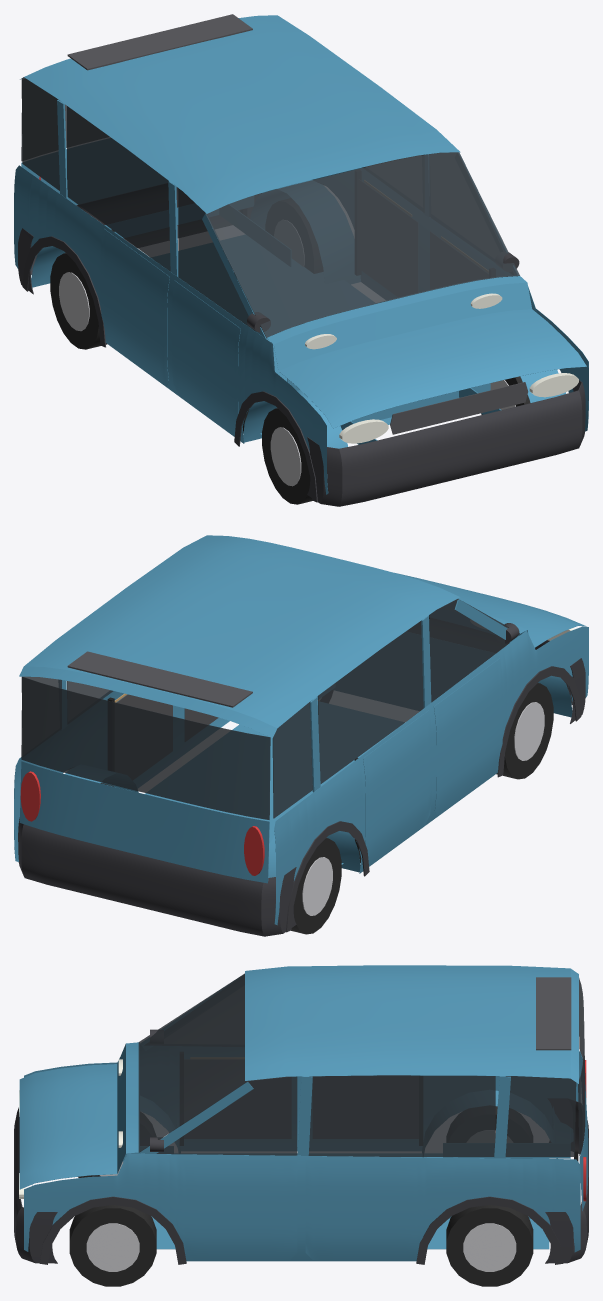
Rendered from aileron.glb.
3 renders of one model, top to bottom at view 1: azimuth 30°, elevation 25°; view 2: azimuth 150°, elevation 25°; view 3: azimuth 270°, elevation 25°, orthographic. The views are drawn at different scales.
Visible parts, largest first — view 1: CAR-PANEL-ROOF 1, Pare-brise 1, CAR-HOOD-SHELL 1, CAR-BUMPER-SKIN-FRONT 1, CAR-PANEL-SIDE 2, Vitre arrière 2, CAR-COWL 1, CAR-DOOR-SHELL-REAR 2, CAR-DOOR-SHELL-FRONT 2, Vitre avant 2, Aileron, CAR-GLASS-QUARTER 2 (+19 smaller); view 2: CAR-PANEL-ROOF 1, CAR-GLASS-TAILGATE 1, CAR-BUMPER-SKIN-REAR 1, CAR-TAILGATE-SHELL 1, CAR-PANEL-SIDE 2, Vitre arrière 2, CAR-DOOR-SHELL-FRONT 2, CAR-DOOR-SHELL-REAR 2, Vitre avant 2, Aileron, CAR-GLASS-QUARTER 2, CAR-PANEL-FLOOR 1 (+18 smaller); view 3: CAR-PANEL-ROOF 1, CAR-PANEL-SIDE 1, Vitre arrière 1, Pare-brise 1, CAR-DOOR-SHELL-FRONT 1, CAR-DOOR-SHELL-REAR 1, CAR-HOOD-SHELL 1, Vitre avant 1, CAR-GLASS-QUARTER 1, Pneu 1, Pneu 3, Aileron (+17 smaller).
Part boxes in pixels (<box>): CAR-PANEL-ROOF 1: <box>20,15,460,213</box>; Pare-brise 1: <box>205,152,519,337</box>; CAR-HOOD-SHELL 1: <box>279,309,586,428</box>; CAR-BUMPER-SKIN-FRONT 1: <box>307,380,585,506</box>; CAR-PANEL-SIDE 2: <box>14,165,328,494</box>; Vitre arrière 2: <box>67,106,170,271</box>; CAR-COWL 1: <box>266,276,531,370</box>; CAR-DOOR-SHELL-REAR 2: <box>101,229,169,386</box>; CAR-DOOR-SHELL-FRONT 2: <box>171,280,240,435</box>; Vitre avant 2: <box>178,188,256,331</box>; Aileron: <box>67,14,252,70</box>; CAR-GLASS-QUARTER 2: <box>21,77,59,190</box>; CAR-PANEL-ROOF 1: <box>19,535,459,738</box>; CAR-GLASS-TAILGATE 1: <box>21,676,270,819</box>; CAR-BUMPER-SKIN-REAR 1: <box>18,817,296,936</box>; CAR-TAILGATE-SHELL 1: <box>19,761,269,883</box>; CAR-PANEL-SIDE 2: <box>274,626,588,925</box>; Vitre arrière 2: <box>318,621,423,783</box>; CAR-DOOR-SHELL-FRONT 2: <box>434,658,502,816</box>; CAR-DOOR-SHELL-REAR 2: <box>363,710,431,865</box>; Vitre avant 2: <box>429,599,509,702</box>; Aileron: <box>67,651,252,707</box>; CAR-GLASS-QUARTER 2: <box>272,701,312,818</box>; CAR-PANEL-FLOOR 1: <box>145,701,404,864</box>; CAR-PANEL-ROOF 1: <box>245,965,578,1083</box>; CAR-PANEL-SIDE 1: <box>24,1153,580,1261</box>; Vitre arrière 1: <box>308,1075,495,1156</box>; Pare-brise 1: <box>138,973,247,1152</box>; CAR-DOOR-SHELL-FRONT 1: <box>179,1160,297,1259</box>; CAR-DOOR-SHELL-REAR 1: <box>305,1160,423,1259</box>; CAR-HOOD-SHELL 1: <box>19,1064,117,1189</box>; Vitre avant 1: <box>156,1076,297,1155</box>; CAR-GLASS-QUARTER 1: <box>505,1076,576,1156</box>; Pneu 1: <box>69,1205,156,1286</box>; Pneu 3: <box>446,1205,533,1286</box>; Aileron: <box>536,977,571,1050</box>.
Bounding box in the file's own units: 1.92 × 1.73 × 4.06.
